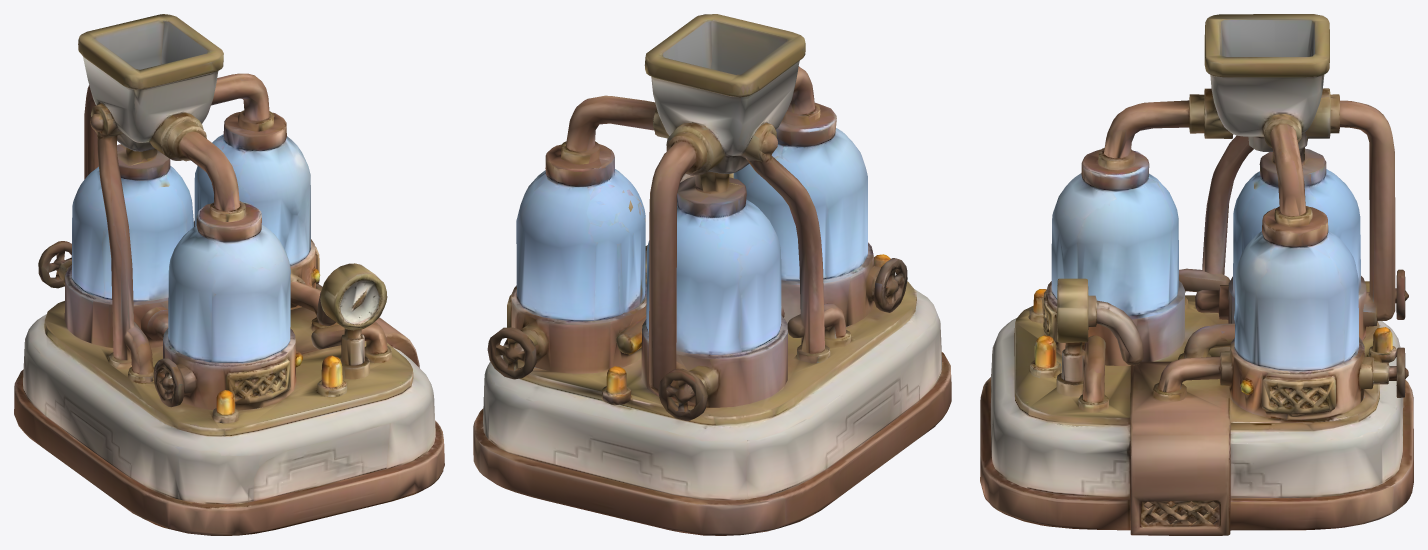
Rendered from electrolyzer.glb.
The picture shows the model from 3 angles, left to right: view 1: azimuth 30°, elevation 25°; view 2: azimuth 150°, elevation 25°; view 3: azimuth 270°, elevation 25°; orthographic projection. The views are drawn at different scales.
Parts seen in each view (by area): view 1: convert; view 2: convert; view 3: convert.
Part boxes in pixels (bbox=[...]): convert: bbox=[14, 14, 444, 535]; convert: bbox=[473, 14, 951, 535]; convert: bbox=[980, 14, 1413, 535].
Bounding box in the file's own units: 1.45 × 1.7 × 1.69.
1 material, 1 textured.
